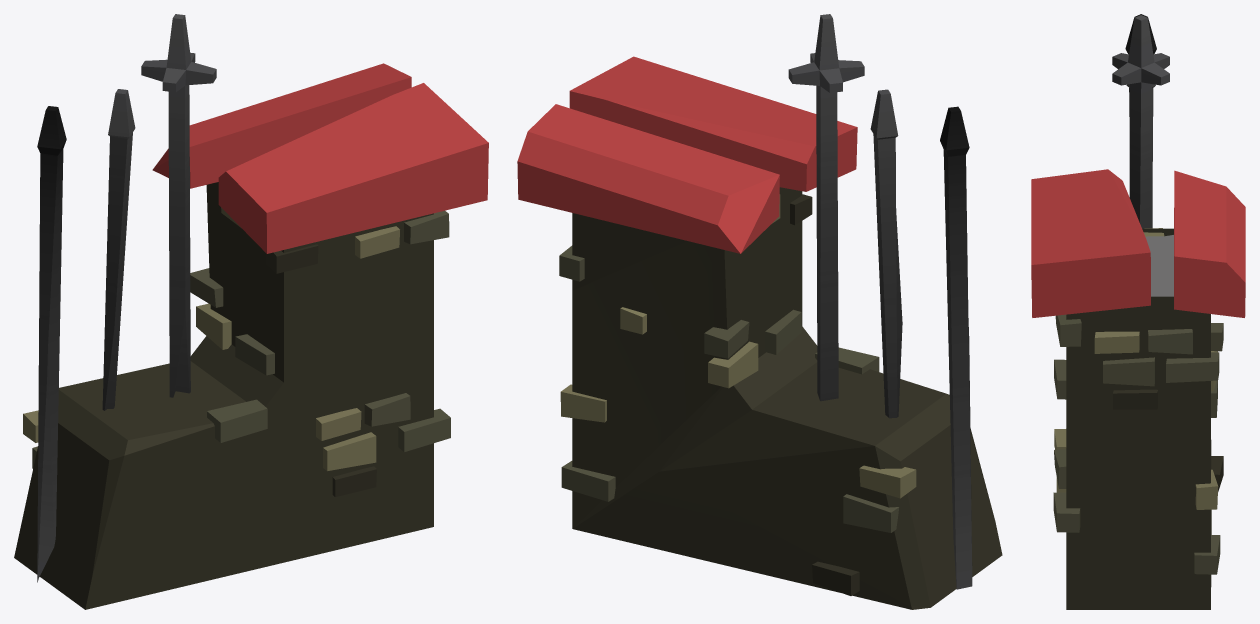
File: ea_arch_wall03_end_01b_pre_8_lev1.glb
3 views of the same model, side by side, from view 1: azimuth 30°, elevation 25°; view 2: azimuth 150°, elevation 25°; view 3: azimuth 270°, elevation 25° (orthographic). The views are drawn at different scales.
Visible parts, largest first — view 1: ea_arch_wall03_end_01b_pre_8_lev1; view 2: ea_arch_wall03_end_01b_pre_8_lev1; view 3: ea_arch_wall03_end_01b_pre_8_lev1.
Boxes of the visible parts, box(x1,y1,x2,y2) form: ea_arch_wall03_end_01b_pre_8_lev1: box(14, 14, 488, 609); ea_arch_wall03_end_01b_pre_8_lev1: box(517, 14, 1002, 609); ea_arch_wall03_end_01b_pre_8_lev1: box(1031, 14, 1245, 609).
Bounding box in the file's own units: 2.1 × 2.71 × 1.06.
1 material, 1 textured.
